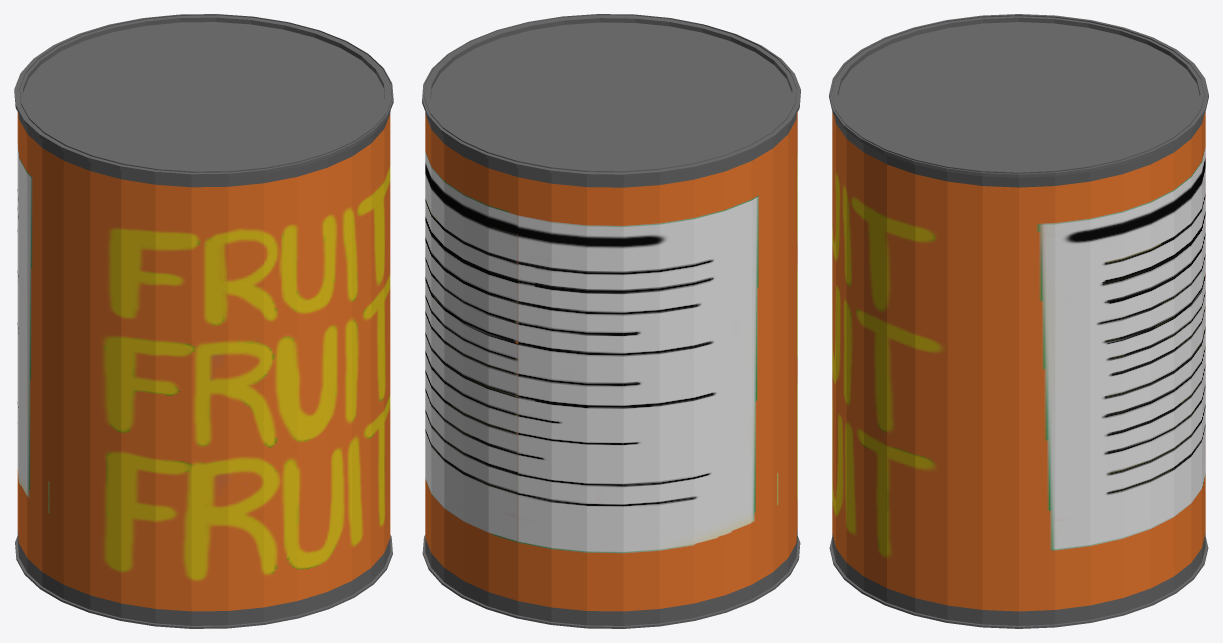
Rendered from ConserevOrange.fbx.
3 renders of one model, left to right at view 1: azimuth 30°, elevation 25°; view 2: azimuth 150°, elevation 25°; view 3: azimuth 270°, elevation 25°, orthographic.
Parts seen in each view (by area): view 1: Cylinder; view 2: Cylinder; view 3: Cylinder.
Boxes of the visible parts, x1=… form: Cylinder: x1=14, y1=14, x2=393, y2=628; Cylinder: x1=422, y1=14, x2=800, y2=628; Cylinder: x1=829, y1=14, x2=1208, y2=628.
Size of the model in its own units: 173 by 230 by 173.
Materials: 2 (1 with a texture image).
